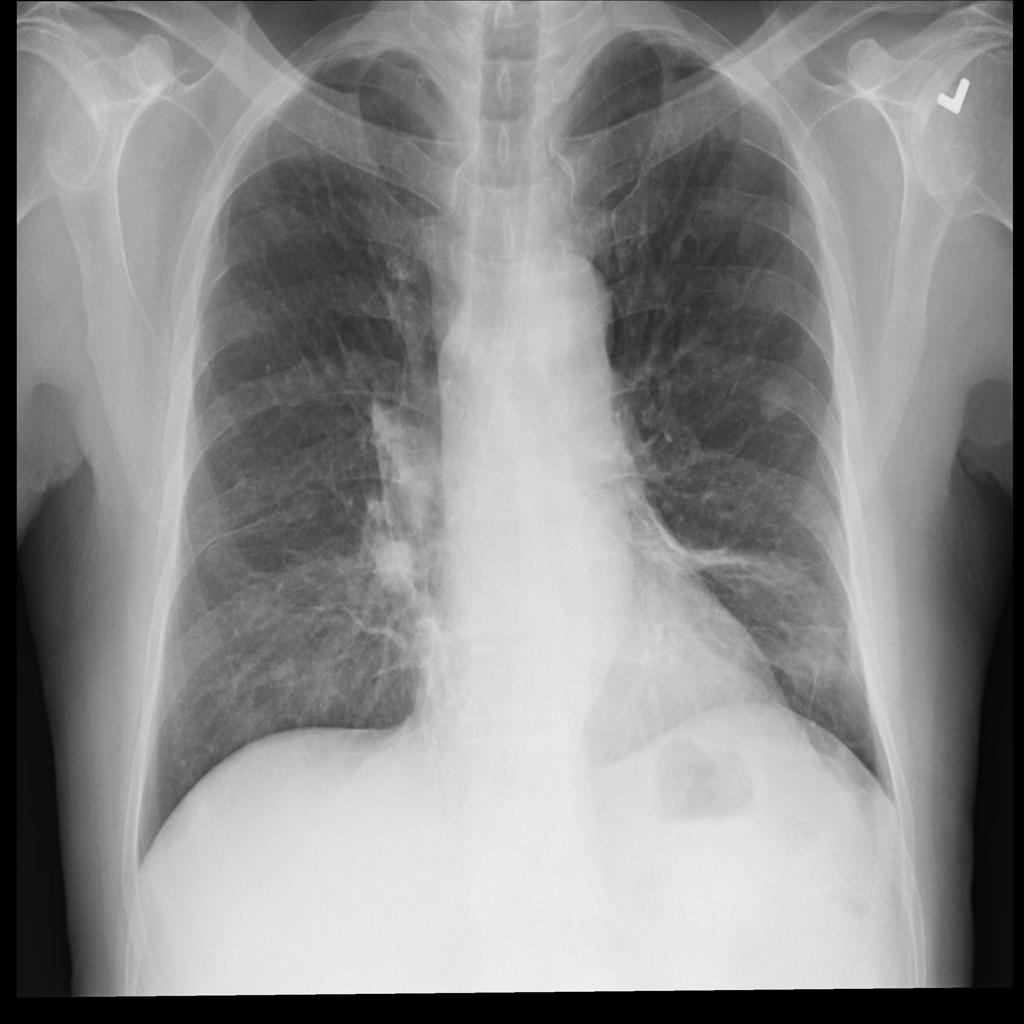nodule: (745, 359, 806, 437), (361, 533, 424, 606)
